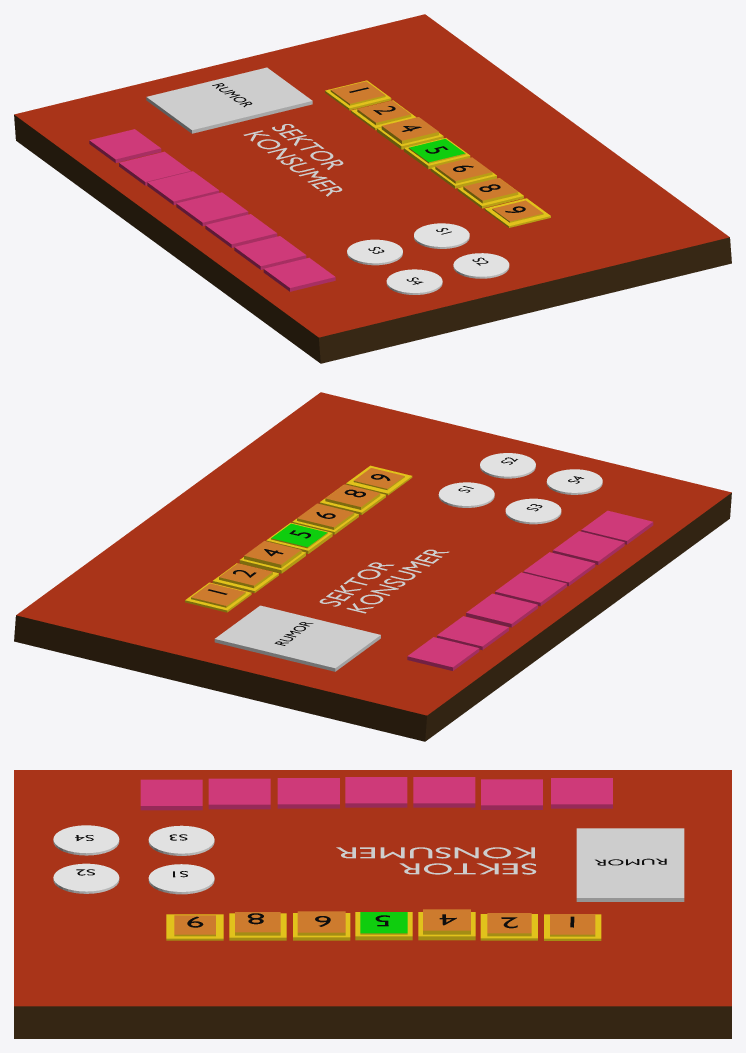
The model's file is BOARD KONSUMER EXAMPLE.fbx.
3 views of the same model, one above another, from view 1: azimuth 30°, elevation 25°; view 2: azimuth 150°, elevation 25°; view 3: azimuth 270°, elevation 25° (orthographic). The views are drawn at different scales.
Parts seen in each view (by area): view 1: BOARD, KARTU RUMOR, company performance, Plane.015, Plane.014, Plane.016, Plane.013, Plane.012, Plane.011, NAMA SEKTOR, Plane.005, Plane.007 (+9 smaller); view 2: BOARD, KARTU RUMOR, Plane.015, Plane.012, Plane.016, Plane.013, Plane.011, company performance, Plane.014, NAMA SEKTOR, Plane.005, Plane.060 (+9 smaller); view 3: BOARD, KARTU RUMOR, company performance, Plane.016, Plane.012, Plane.013, Plane.014, Plane.011, Plane.015, Plane.005, NAMA SEKTOR, Plane.007 (+9 smaller).
Part boxes in pixels (<box>): BOARD: <box>14,14,731,363</box>; KARTU RUMOR: <box>146,67,312,133</box>; company performance: <box>263,257,335,291</box>; Plane.015: <box>89,129,161,162</box>; Plane.014: <box>205,214,277,247</box>; Plane.016: <box>234,236,306,269</box>; Plane.013: <box>176,192,248,226</box>; Plane.012: <box>147,171,219,205</box>; Plane.011: <box>119,151,190,185</box>; NAMA SEKTOR: <box>243,124,343,196</box>; Plane.005: <box>377,117,443,149</box>; Plane.007: <box>430,157,496,188</box>; BOARD: <box>14,392,731,741</box>; KARTU RUMOR: <box>214,605,380,671</box>; Plane.015: <box>407,637,479,670</box>; Plane.012: <box>466,593,537,627</box>; Plane.016: <box>552,531,624,564</box>; Plane.013: <box>495,572,566,606</box>; Plane.011: <box>437,616,508,650</box>; company performance: <box>581,510,653,544</box>; Plane.014: <box>523,552,595,586</box>; NAMA SEKTOR: <box>319,549,449,613</box>; Plane.005: <box>239,541,305,573</box>; Plane.060: <box>505,498,561,524</box>; BOARD: <box>14,770,731,1038</box>; KARTU RUMOR: <box>576,828,684,901</box>; company performance: <box>140,779,202,810</box>; Plane.016: <box>208,778,270,809</box>; Plane.012: <box>413,777,475,807</box>; Plane.013: <box>345,777,407,807</box>; Plane.014: <box>277,778,339,808</box>; Plane.011: <box>481,779,542,809</box>; Plane.015: <box>551,778,612,808</box>; Plane.005: <box>418,909,475,940</box>; NAMA SEKTOR: <box>336,847,536,874</box>; Plane.007: <box>293,911,350,940</box>.
Bounding box in the file's own units: 25210 × 2010 × 32221.
